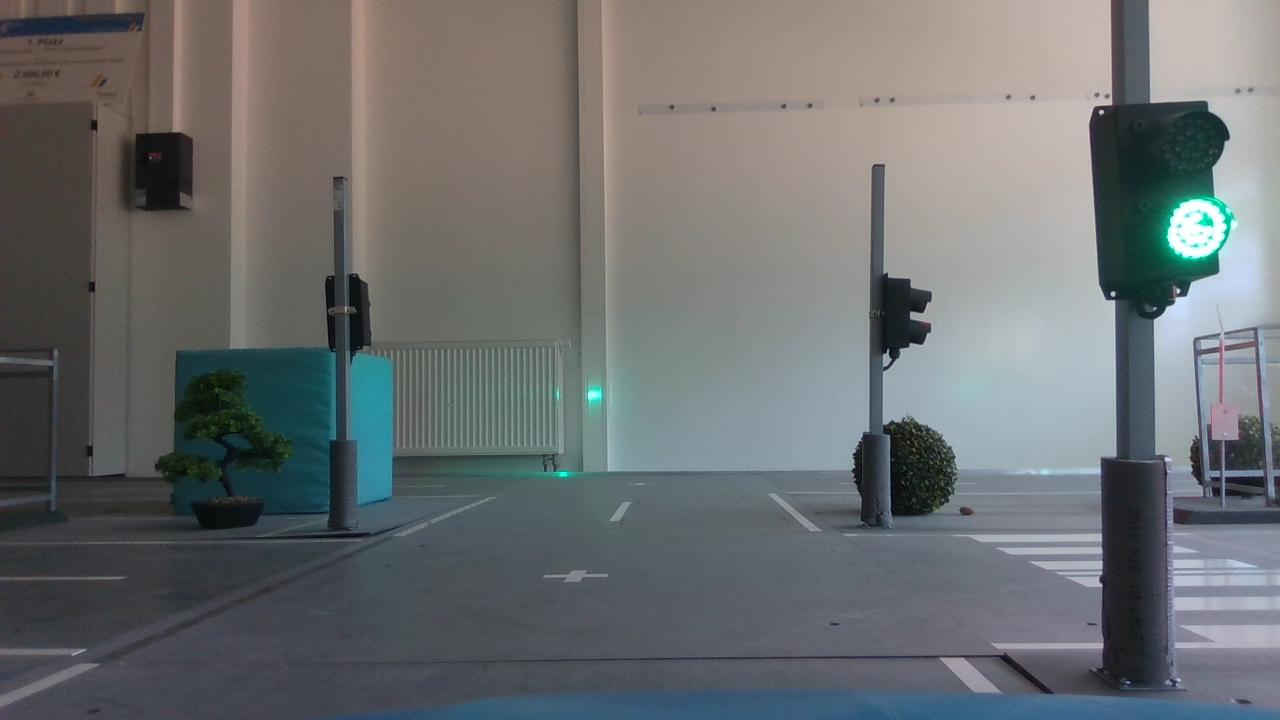traffic_light_green: (1062, 86, 1245, 307)
